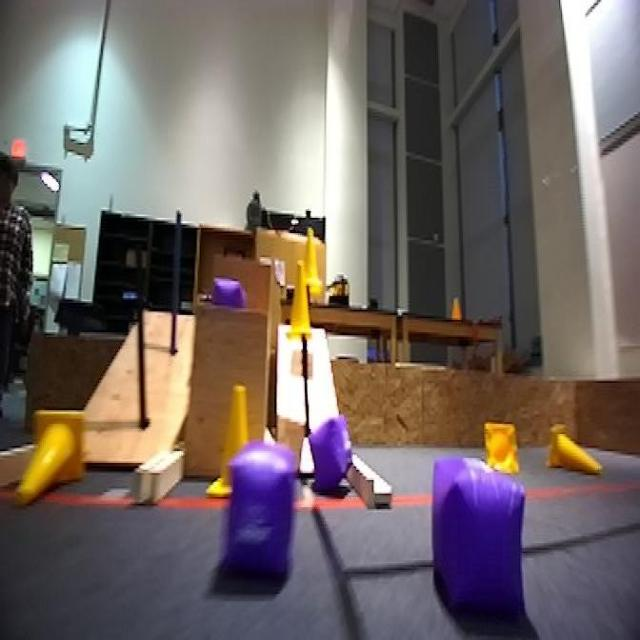frc_cone: (26, 410, 86, 509), (213, 385, 259, 495), (549, 427, 599, 473), (286, 279, 318, 349), (477, 421, 520, 468), (301, 228, 323, 298)
frc_cube: (431, 460, 525, 621), (217, 441, 299, 582), (299, 407, 351, 495), (211, 282, 245, 315)
